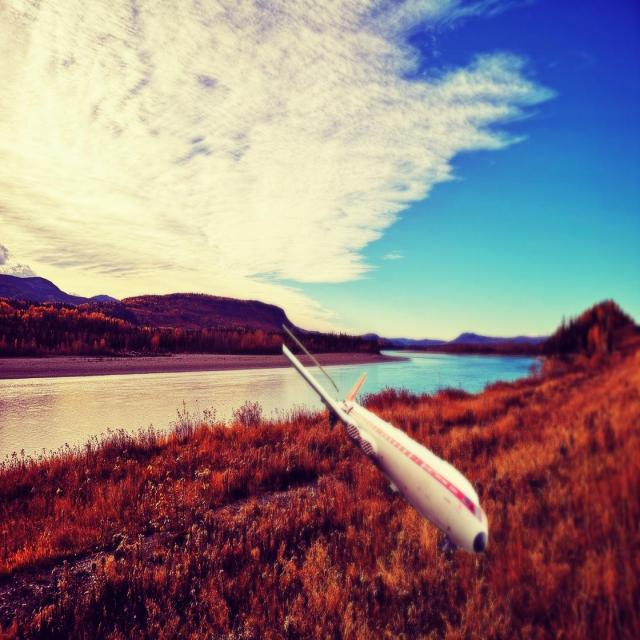airplane: (280, 323, 489, 555)
